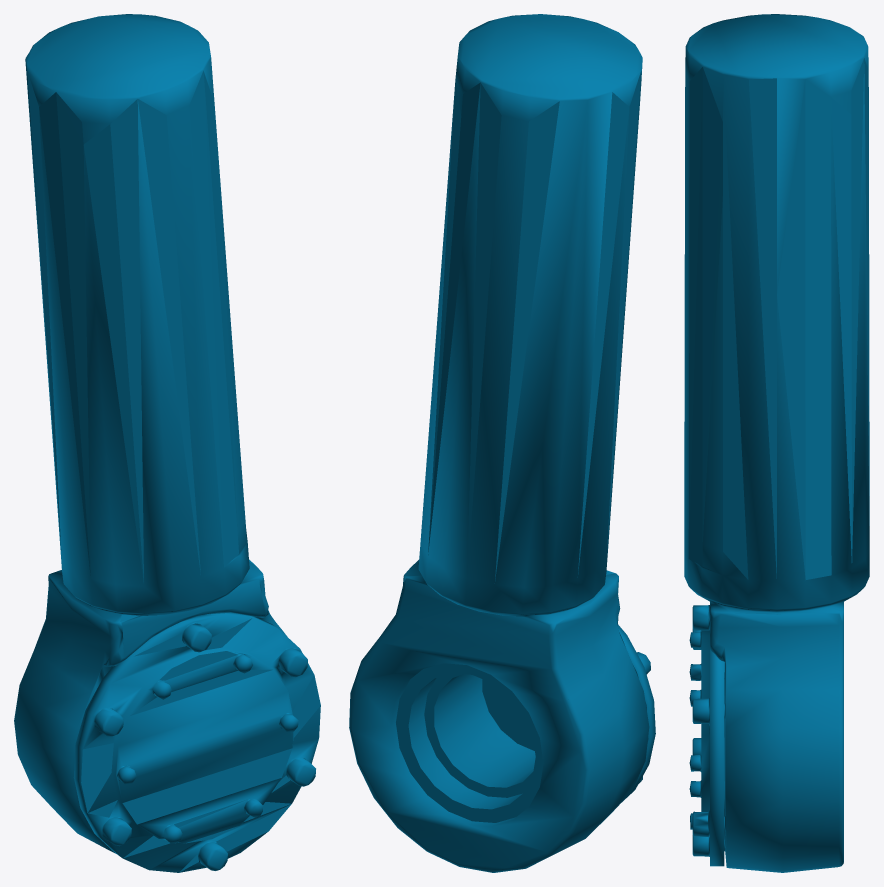
3 views of the same model, side by side, from view 1: azimuth 30°, elevation 25°; view 2: azimuth 150°, elevation 25°; view 3: azimuth 270°, elevation 25° (orthographic). The views are drawn at different scales.
Parts seen in each view (by area): view 1: link_1_s_2; view 2: link_1_s_2; view 3: link_1_s_2.
Part boxes in pixels (left/top/right/bottom): link_1_s_2: left=14, top=14, right=320, bottom=872; link_1_s_2: left=349, top=14, right=655, bottom=872; link_1_s_2: left=684, top=14, right=869, bottom=872.
Size of the model in its own units: 0.1501 by 0.0967 by 0.4583.
